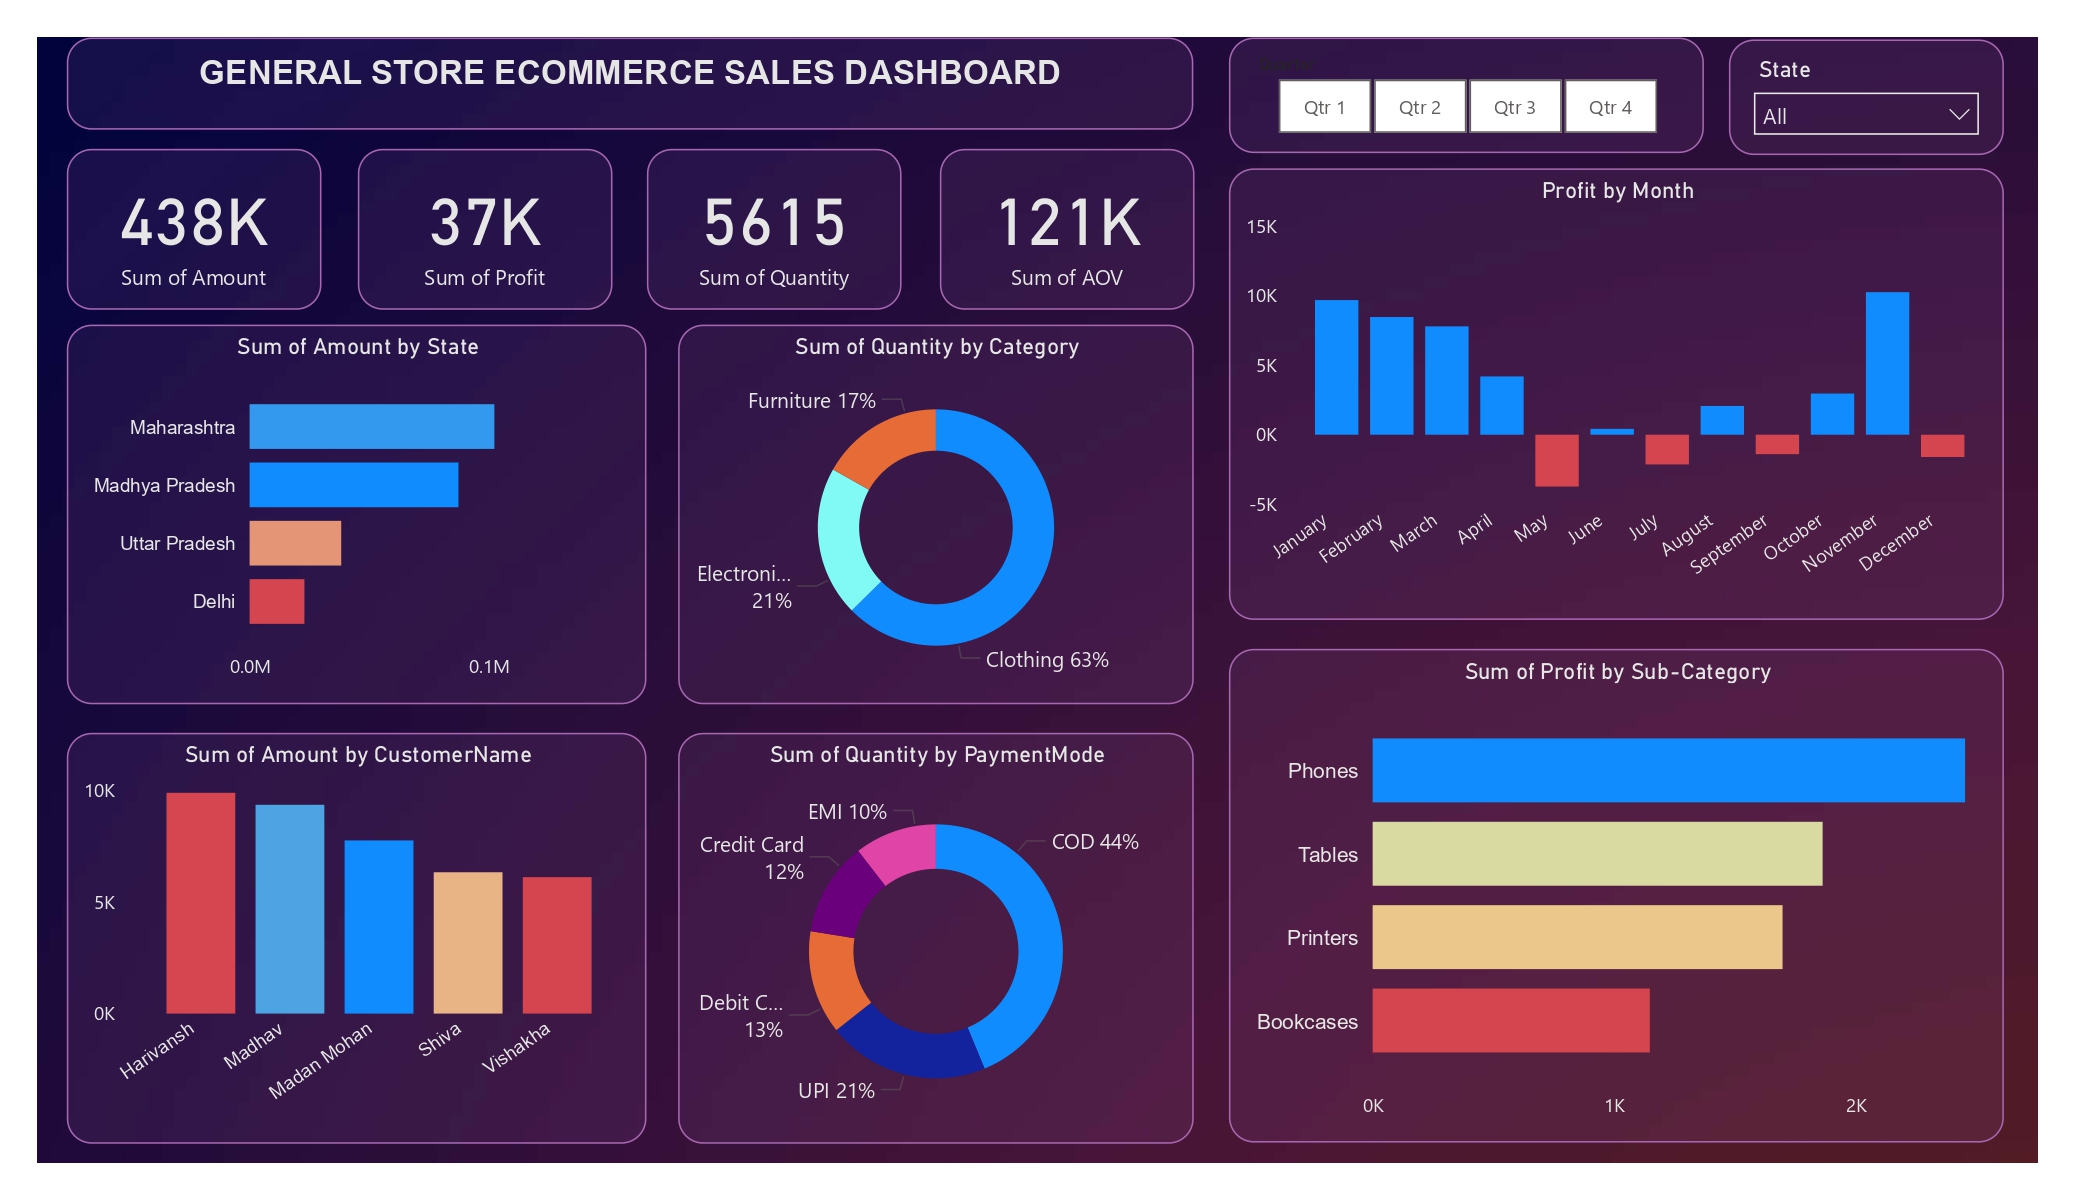

Layout of this report page (visuals, bound fields, positions):
{"tool":"powerbi","page":{"name":"Page 1","canvas":[1280,720],"ordinal":0},"visuals":[{"type":"textbox","box":[18.8,0,721.2,58.8],"z":0},{"type":"columnChart","title":"Profit by Month","fields":{"Y":["Sum(Details.Profit)"],"Category":["Orders.Order Date.Variation.Date Hierarchy.Month"]},"box":[762.5,83.8,496.2,288.8],"z":1000},{"type":"barChart","fields":{"Category":["Details.Sub-Category"],"Y":["Sum(Details.Profit)"]},"box":[762.5,391.2,496.2,316.2],"z":2000},{"type":"donutChart","fields":{"Category":["Details.Category"],"Y":["Sum(Details.Quantity)"]},"box":[410,183.8,330,242.5],"z":3000},{"type":"donutChart","fields":{"Y":["Sum(Details.Quantity)"],"Category":["Details.PaymentMode"]},"box":[410,445,330,262.5],"z":4000},{"type":"card","fields":{"Values":["Sum(Details.Amount)"]},"box":[18.8,71.2,162.5,102.5],"z":5000},{"type":"card","fields":{"Values":["Sum(Details.AOV)"]},"box":[577.5,71.2,162.5,102.5],"z":6000},{"type":"card","fields":{"Values":["Sum(Details.Quantity)"]},"box":[390,71.2,162.5,102.5],"z":7000},{"type":"card","fields":{"Values":["Sum(Details.Profit)"]},"box":[205,71.2,162.5,102.5],"z":8000},{"type":"barChart","fields":{"Category":["Orders.State"],"Y":["Sum(Details.Amount)"]},"box":[18.8,183.8,371.2,242.5],"z":9000},{"type":"columnChart","fields":{"Category":["Orders.CustomerName"],"Y":["Sum(Details.Amount)"]},"box":[18.8,445,371.2,262.5],"z":10000},{"type":"slicer","fields":{"Values":["Orders.Order Date.Variation.Date Hierarchy.Quarter"]},"box":[762.5,0,303.8,73.8],"z":11000},{"type":"slicer","fields":{"Values":["Orders.State"]},"box":[1082.5,1.2,176.2,73.8],"z":12000}]}

Visuals, with their boxes in screenshot pixels (x1, y1, x2, y2):
textbox: 30, 27, 1183, 121
"Profit by Month" columnChart: 1219, 161, 2012, 623
barChart - Details.Sub-Category x Sum(Details.Profit): 1219, 652, 2012, 1158
donutChart - Details.Category x Sum(Details.Quantity): 655, 321, 1183, 709
donutChart - Sum(Details.Quantity) x Details.PaymentMode: 655, 738, 1183, 1158
card - Sum(Details.Amount): 30, 141, 290, 305
card - Sum(Details.AOV): 923, 141, 1183, 305
card - Sum(Details.Quantity): 623, 141, 883, 305
card - Sum(Details.Profit): 328, 141, 588, 305
barChart - Orders.State x Sum(Details.Amount): 30, 321, 623, 709
columnChart - Orders.CustomerName x Sum(Details.Amount): 30, 738, 623, 1158
slicer - Orders.Order Date.Variation.Date Hierarchy.Quarter: 1219, 27, 1705, 145
slicer - Orders.State: 1731, 29, 2012, 147
